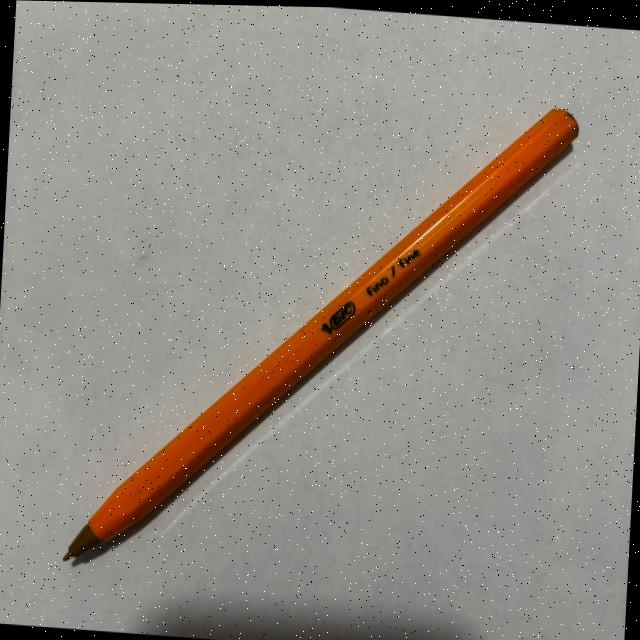pencil: (64, 106, 581, 567)
